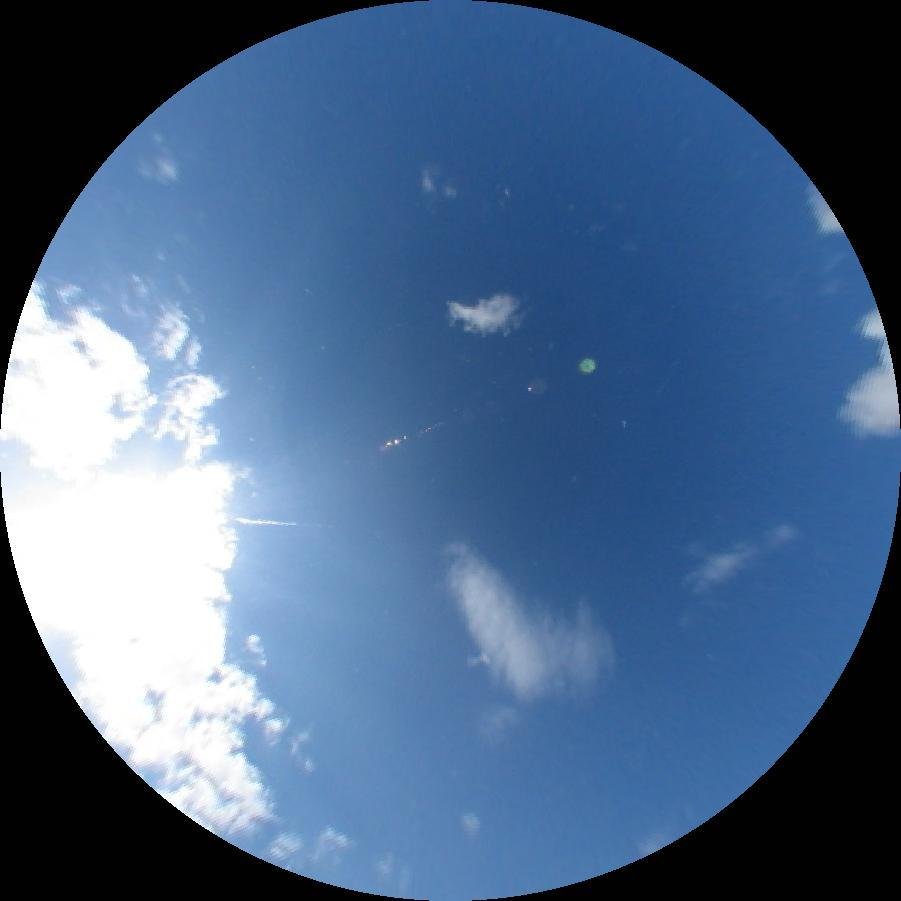contrail young: (656, 378, 669, 395)
parasite: (235, 517, 297, 529)
